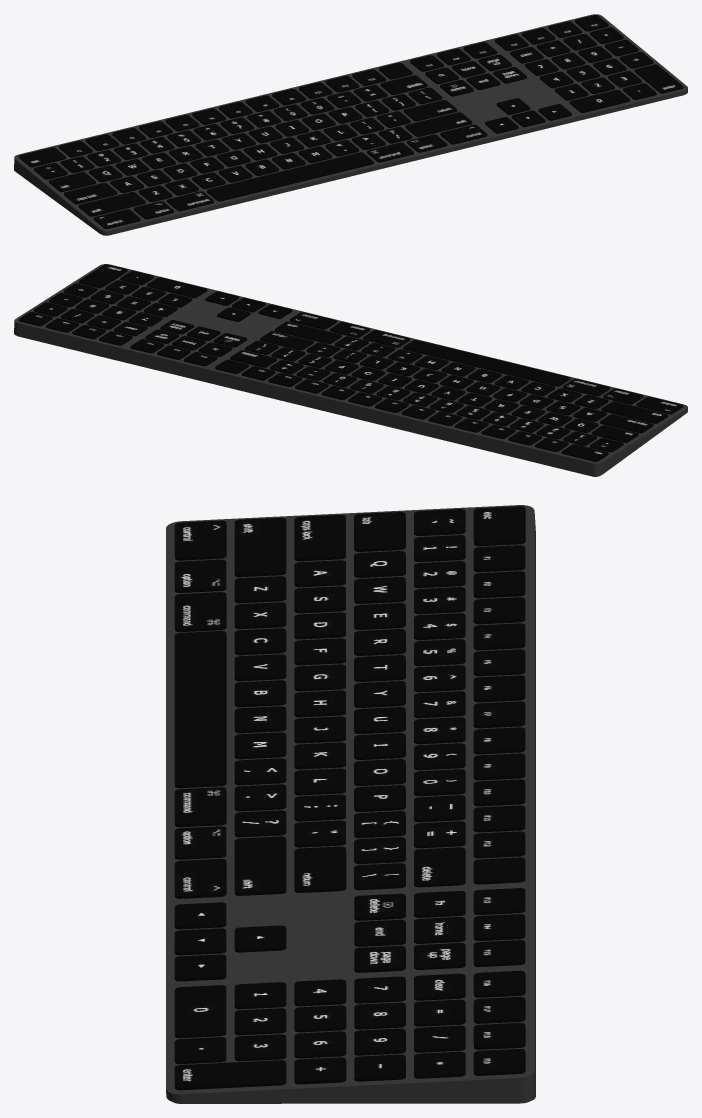
File: magicKeyboard.glb
3 views of the same model, one above another, from view 1: azimuth 30°, elevation 25°; view 2: azimuth 150°, elevation 25°; view 3: azimuth 270°, elevation 25° (orthographic). The views are drawn at different scales.
Visible parts, largest first — view 1: magic-keyboard; view 2: magic-keyboard; view 3: magic-keyboard.
Part boxes in pixels (left/top/right/bottom): magic-keyboard: left=14, top=14, right=687, bottom=235; magic-keyboard: left=14, top=264, right=687, bottom=476; magic-keyboard: left=166, top=505, right=535, bottom=1103.
Bounding box in the file's own units: 0.4178 × 0.0109 × 0.1141.
Materials: 2 (1 with a texture image).
